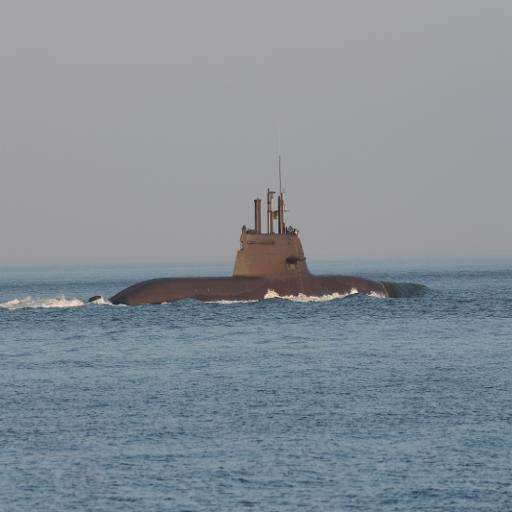submarine: (89, 186, 431, 307)
